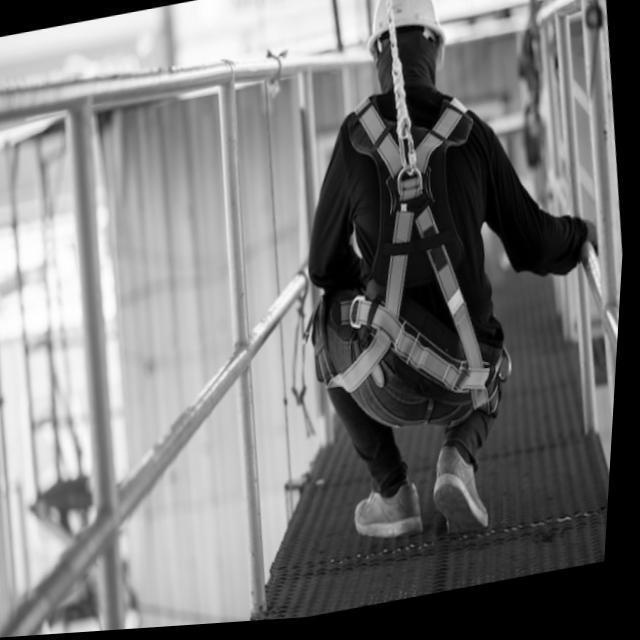Arnes_seguridad: (342, 92, 486, 424)
